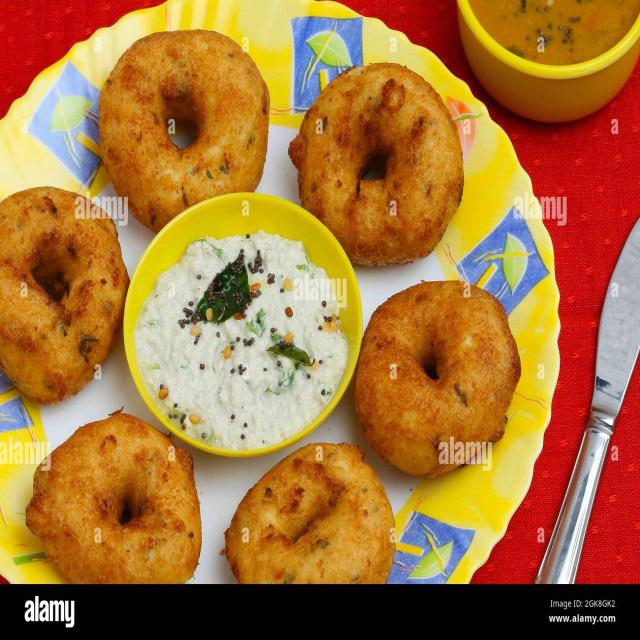MEDU VADA: (297, 64, 469, 268), (93, 28, 269, 222), (356, 277, 519, 472), (357, 281, 521, 473), (32, 407, 204, 587), (2, 191, 128, 406), (225, 446, 396, 584)
